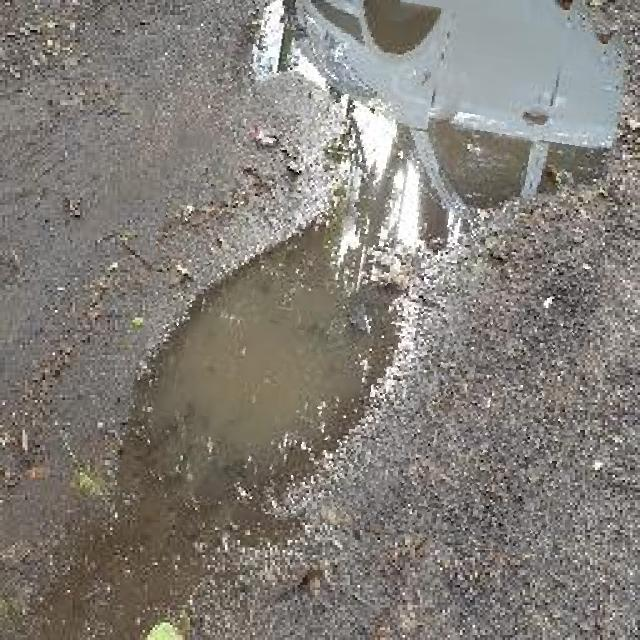puddle: (136, 1, 615, 543)
